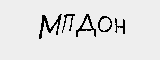Д: (73, 12, 97, 36)
М: (34, 11, 60, 41)
Н: (113, 15, 128, 36)
О: (95, 12, 112, 34)
П: (61, 10, 75, 34)
